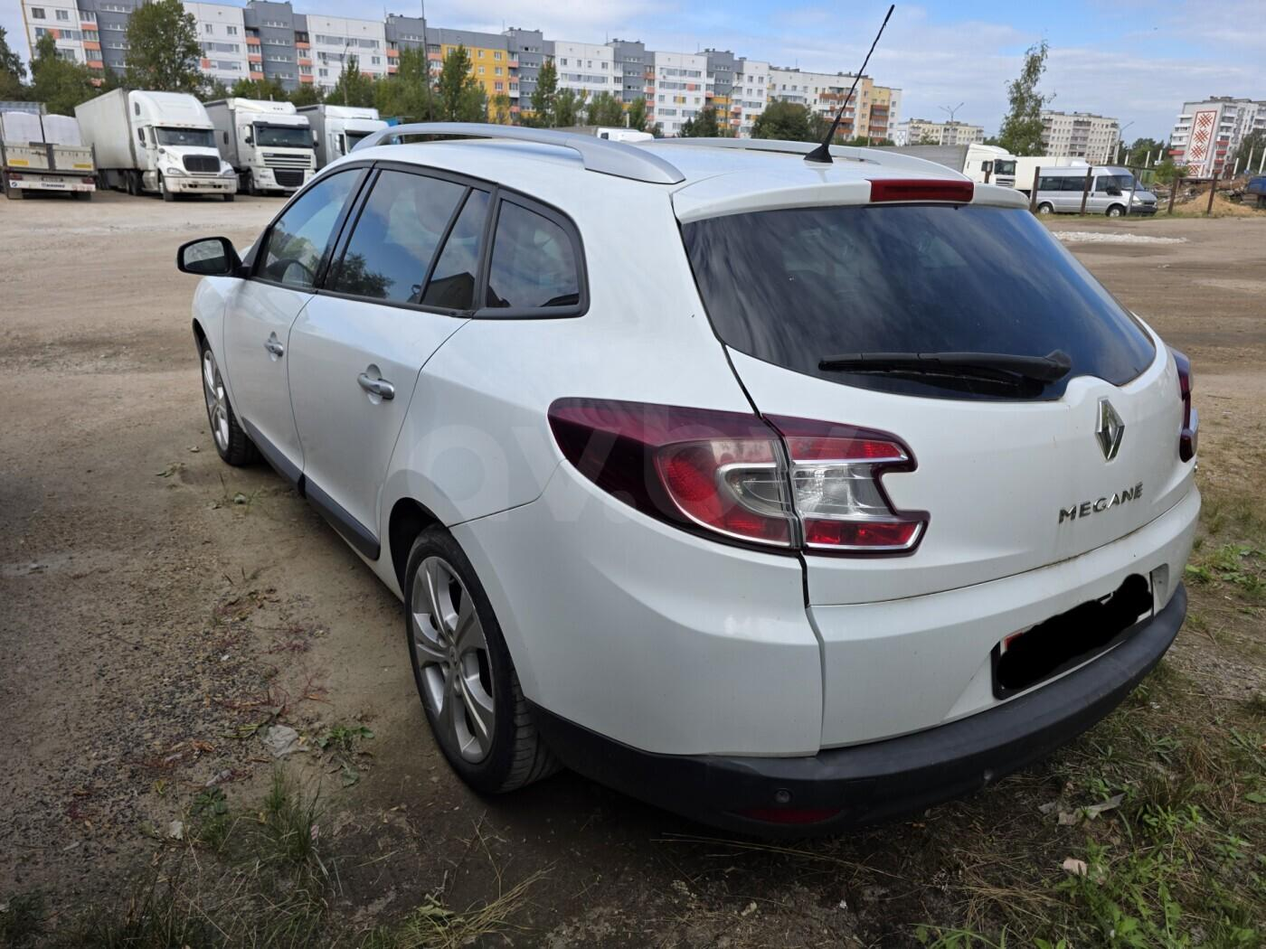Megane_2008-2014: (183, 128, 1205, 821)
